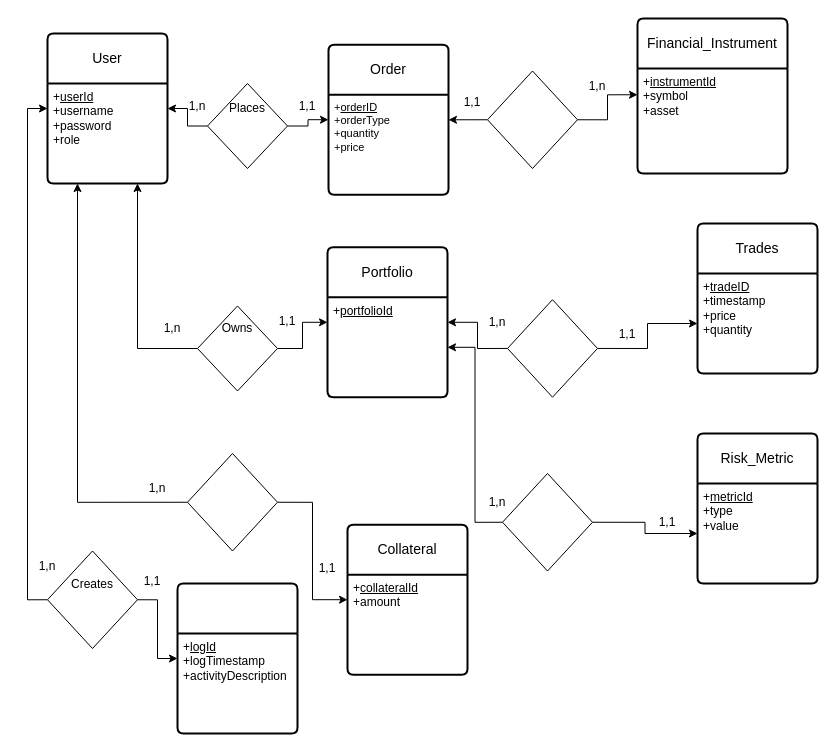
The diagram is 835 pixels wide and 751 high, and some of its shapes have lost their labels. Here are the shapes that lost their labels. From the top down, the box of each, then its label:
(486, 70, 578, 168): Uses
(506, 299, 598, 397): Contains
(186, 452, 278, 551): Provides
(502, 472, 592, 571): Calculates
(176, 582, 298, 734): Logs
